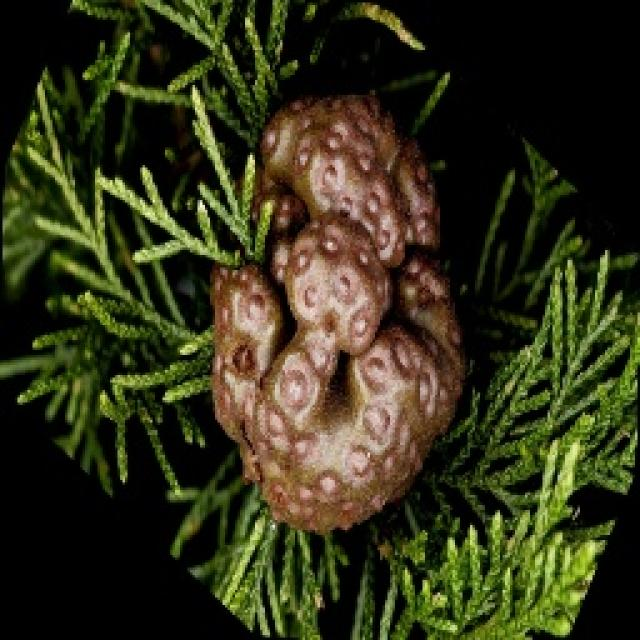Gymnosporangium_Rusts: (205, 90, 467, 535)
